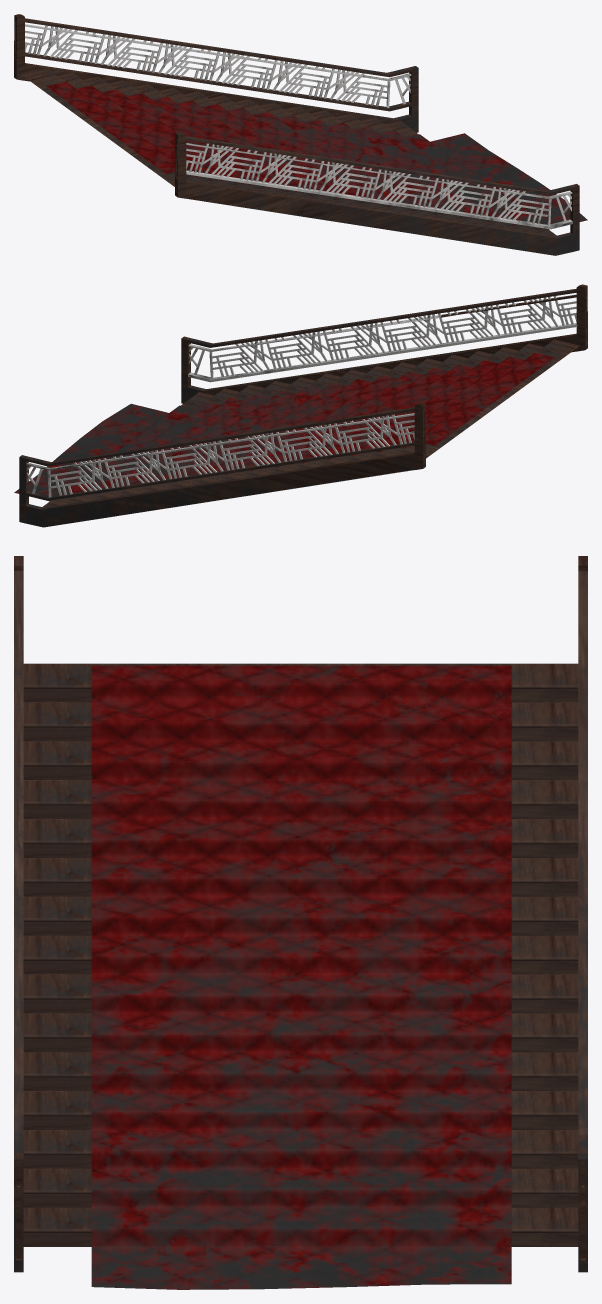
File: Mod_Stairs.fbx
The picture shows the model from 3 angles, top to bottom: view 1: azimuth 30°, elevation 25°; view 2: azimuth 150°, elevation 25°; view 3: azimuth 270°, elevation 25°; orthographic projection. The views are drawn at different scales.
Visible parts, largest first — view 1: Mod_Stairs_A_Low; view 2: Mod_Stairs_A_Low; view 3: Mod_Stairs_A_Low.
Boxes of the visible parts, x1,y1,x2,y2 form: Mod_Stairs_A_Low: (14,14,587,255); Mod_Stairs_A_Low: (14,284,587,527); Mod_Stairs_A_Low: (14,556,587,1289).
Size of the model in its own units: 921 by 430 by 600.
1 material, 1 textured.
